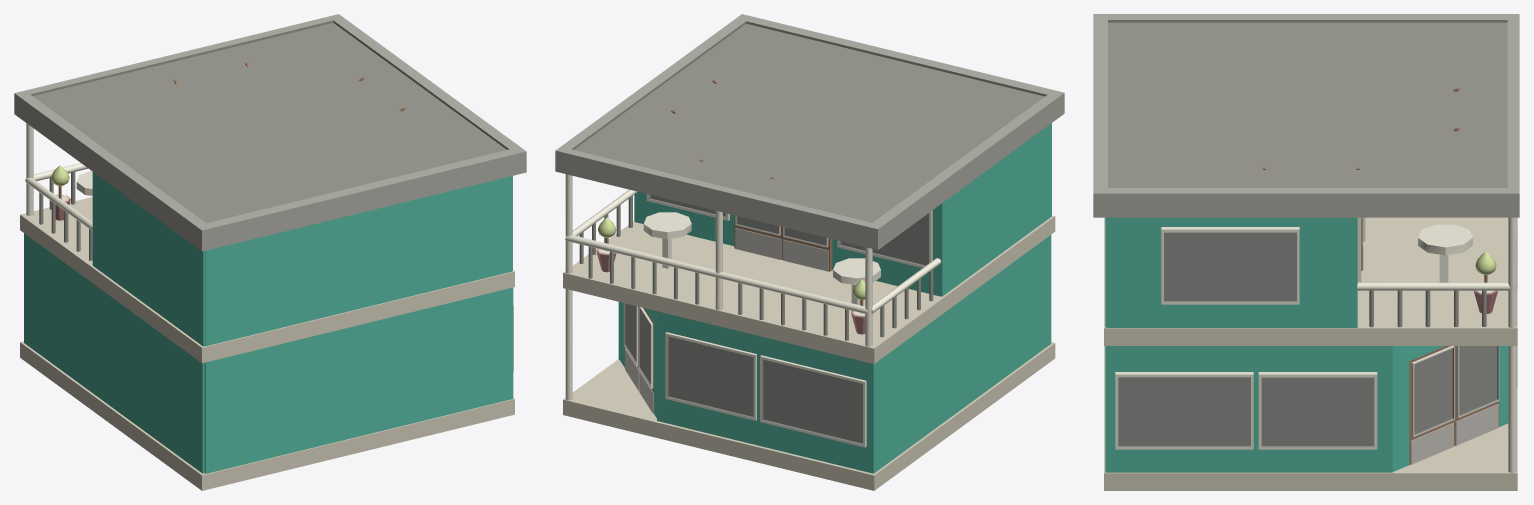
Rendered from house33.fbx.
The picture shows the model from 3 angles, left to right: view 1: azimuth 30°, elevation 25°; view 2: azimuth 150°, elevation 25°; view 3: azimuth 270°, elevation 25°; orthographic projection. The views are drawn at different scales.
Visible parts, largest first — view 1: Boole_1; view 2: Boole_1; view 3: Boole_1.
Boxes of the visible parts, left/top/right/bottom form: Boole_1: left=14, top=14, right=526, bottom=490; Boole_1: left=555, top=14, right=1064, bottom=490; Boole_1: left=1093, top=14, right=1519, bottom=490.
Size of the model in its own units: 1147 by 896 by 1150.
